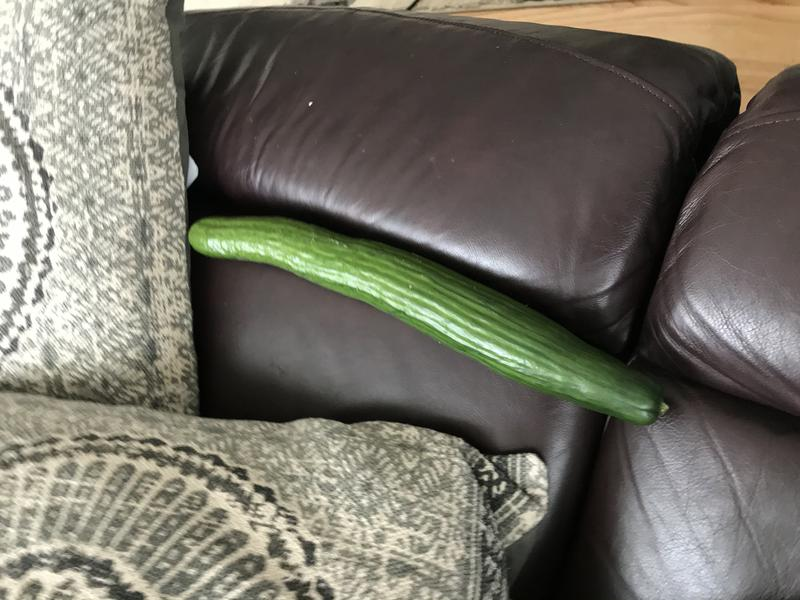cucumber: (175, 198, 676, 437)
